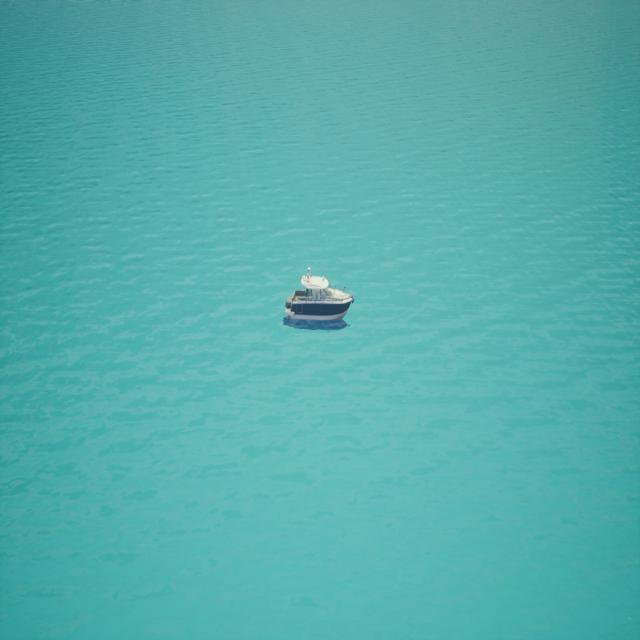ship: (282, 266, 355, 326)
